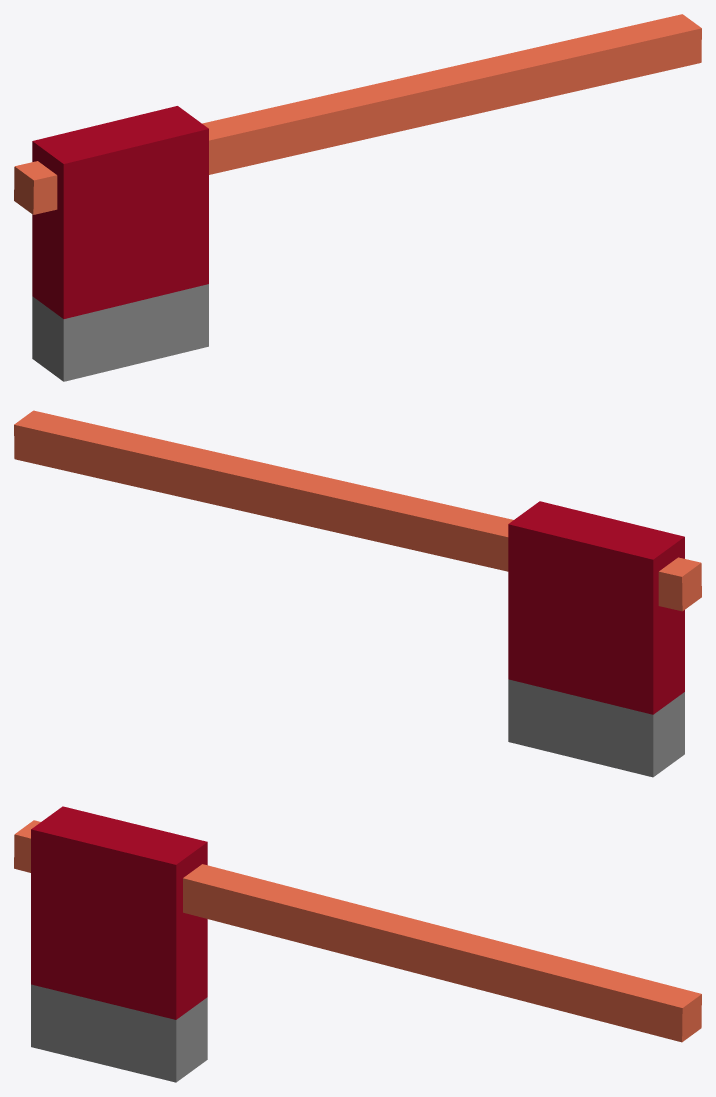
File: axe.FBX
The picture shows the model from 3 angles, top to bottom: view 1: azimuth 30°, elevation 25°; view 2: azimuth 150°, elevation 25°; view 3: azimuth 330°, elevation 25°; orthographic projection.
Visible parts, largest first — view 1: Box032, Box031; view 2: Box032, Box031; view 3: Box032, Box031.
Boxes of the visible parts, left/top/right/bottom form: Box032: left=32, top=106, right=208, bottom=381; Box031: left=14, top=14, right=701, bottom=214; Box032: left=508, top=501, right=684, bottom=777; Box031: left=14, top=410, right=701, bottom=611; Box032: left=31, top=806, right=207, bottom=1082; Box031: left=14, top=820, right=701, bottom=1042.
Size of the model in its own units: 17.61 by 5.48 by 1.45.
